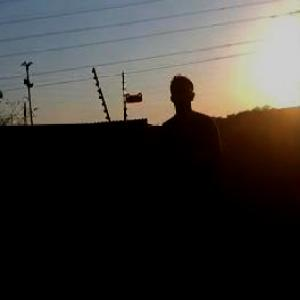follow: (156, 60, 232, 299)
